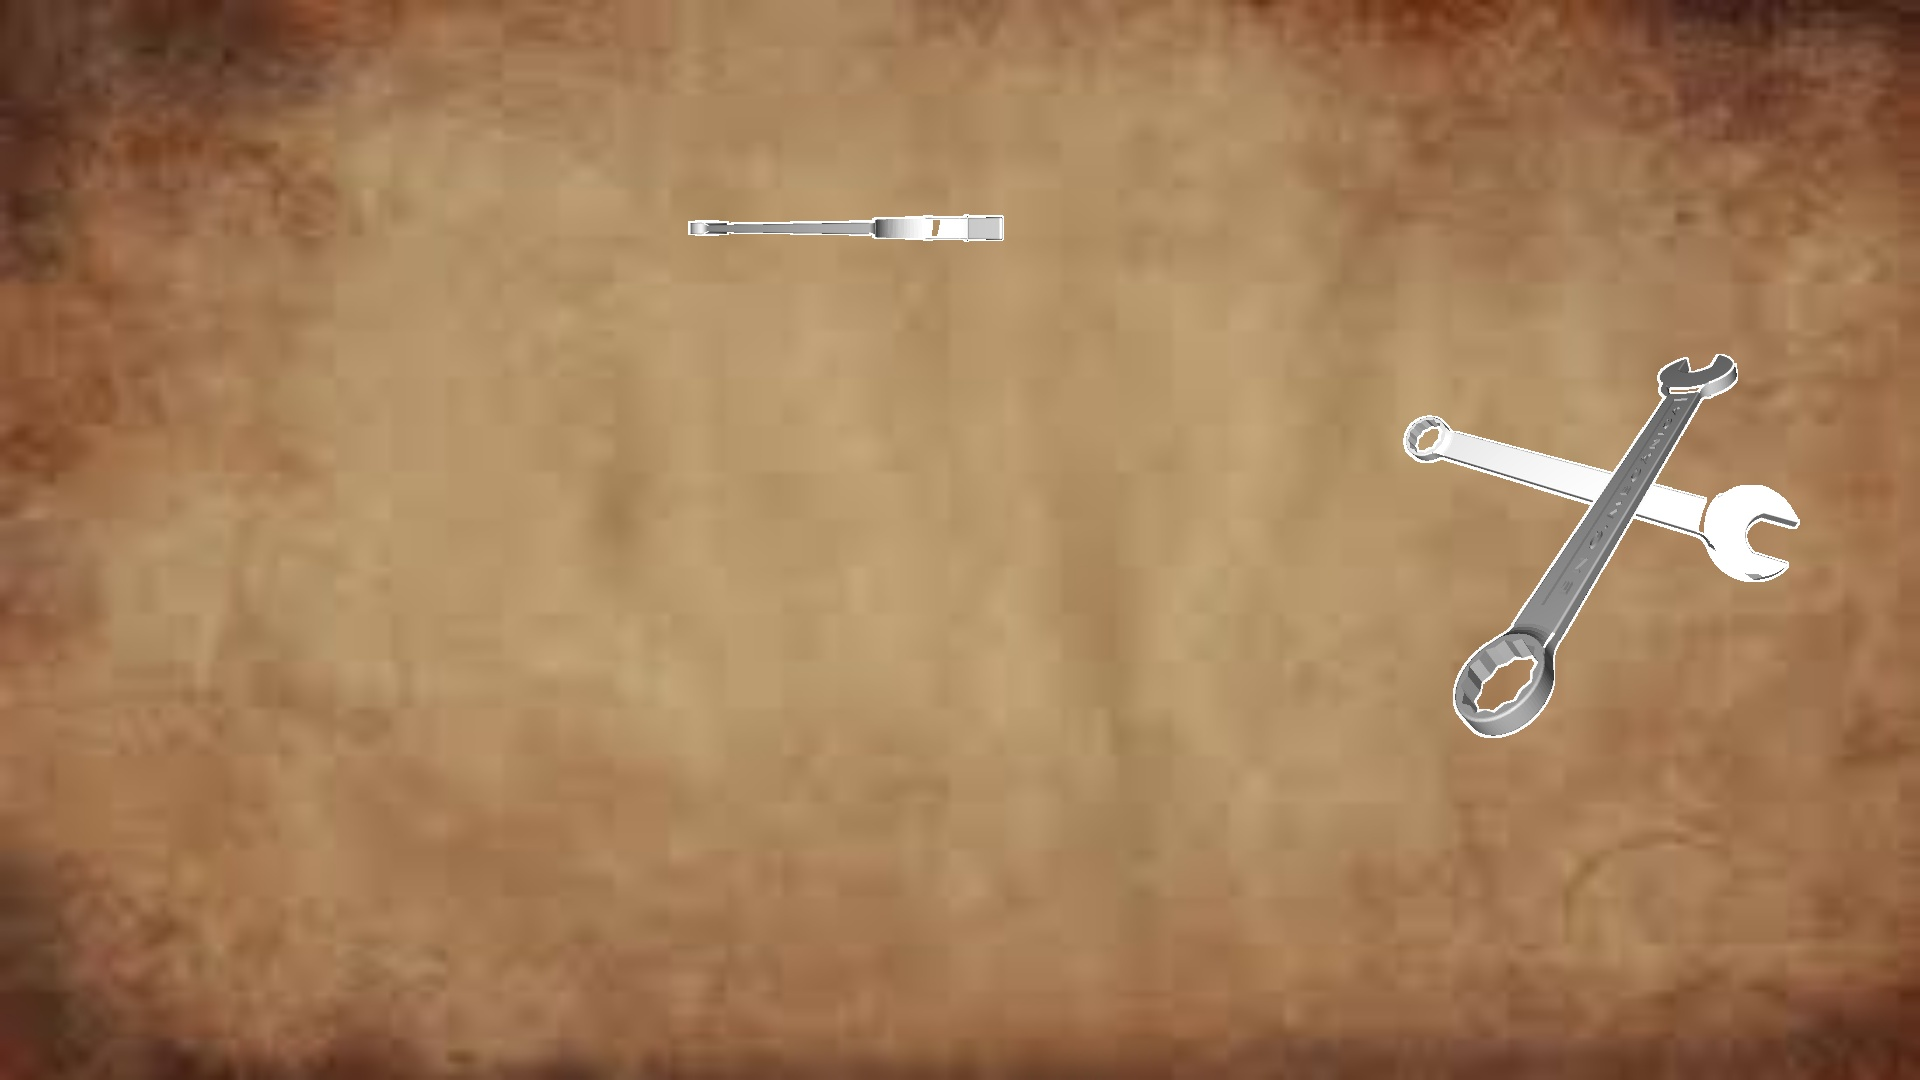Mixed Key: (1453, 353, 1737, 737), (1403, 415, 1799, 582), (688, 214, 1004, 241)
